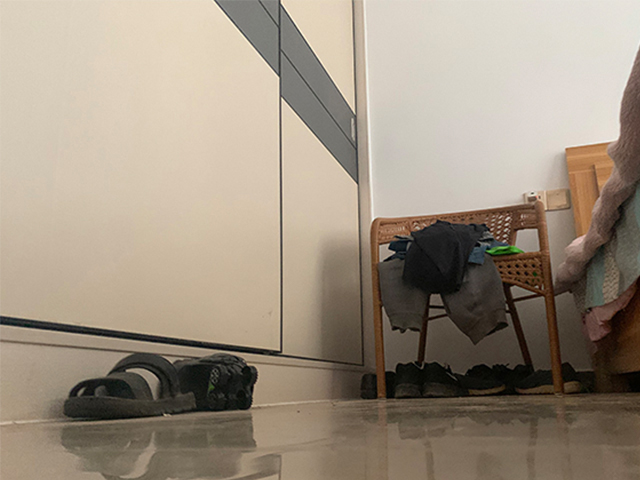bed: (565, 45, 640, 391)
cabinet: (1, 1, 364, 419)
slippers: (63, 352, 197, 421)
stool: (369, 200, 564, 399)
